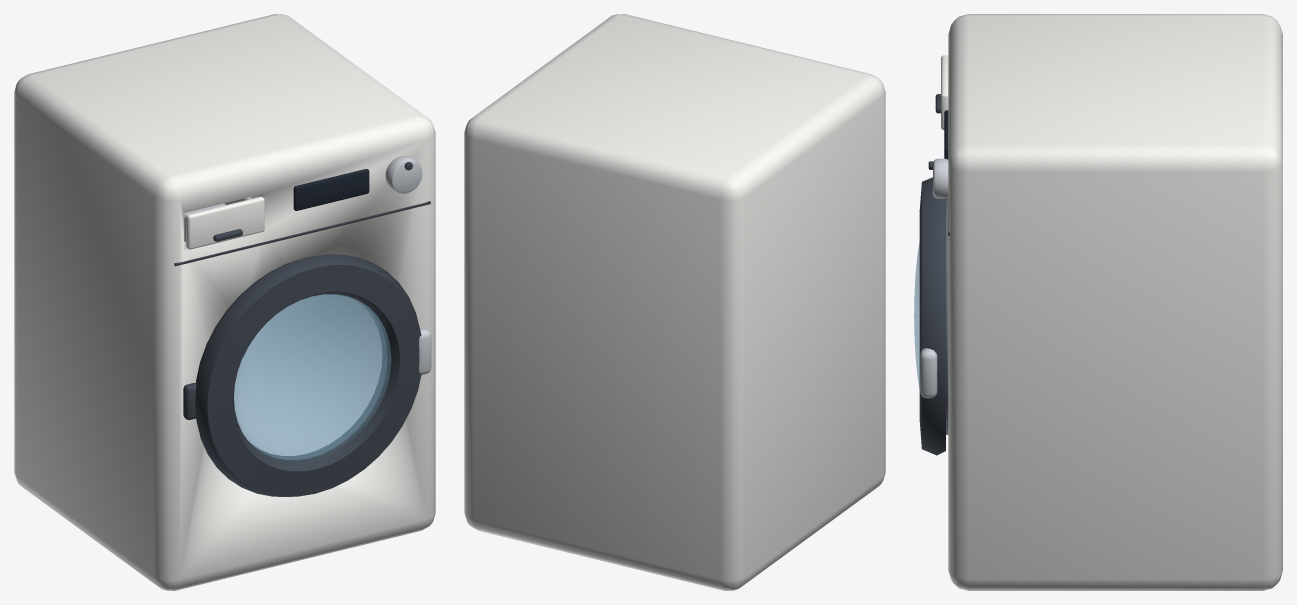
File: maquina_lavar_branca.glb
3 views of the same model, side by side, from view 1: azimuth 30°, elevation 25°; view 2: azimuth 150°, elevation 25°; view 3: azimuth 270°, elevation 25° (orthographic). The views are drawn at different scales.
Visible parts, largest first — view 1: maquina_lavar_branca, porta_maquina, gaveta_1; view 2: maquina_lavar_branca; view 3: maquina_lavar_branca, porta_maquina, gaveta_1.
Boxes of the visible parts, x1,y1,x2,y2 form: maquina_lavar_branca: (14,14,435,590); porta_maquina: (195,254,431,496); gaveta_1: (184,196,264,249); maquina_lavar_branca: (464,14,885,590); maquina_lavar_branca: (928,14,1282,590); porta_maquina: (914,177,945,455); gaveta_1: (935,55,948,129).
Bounding box in the file's own units: 0.6 × 0.85 × 0.6395.
2 materials, 1 textured.
